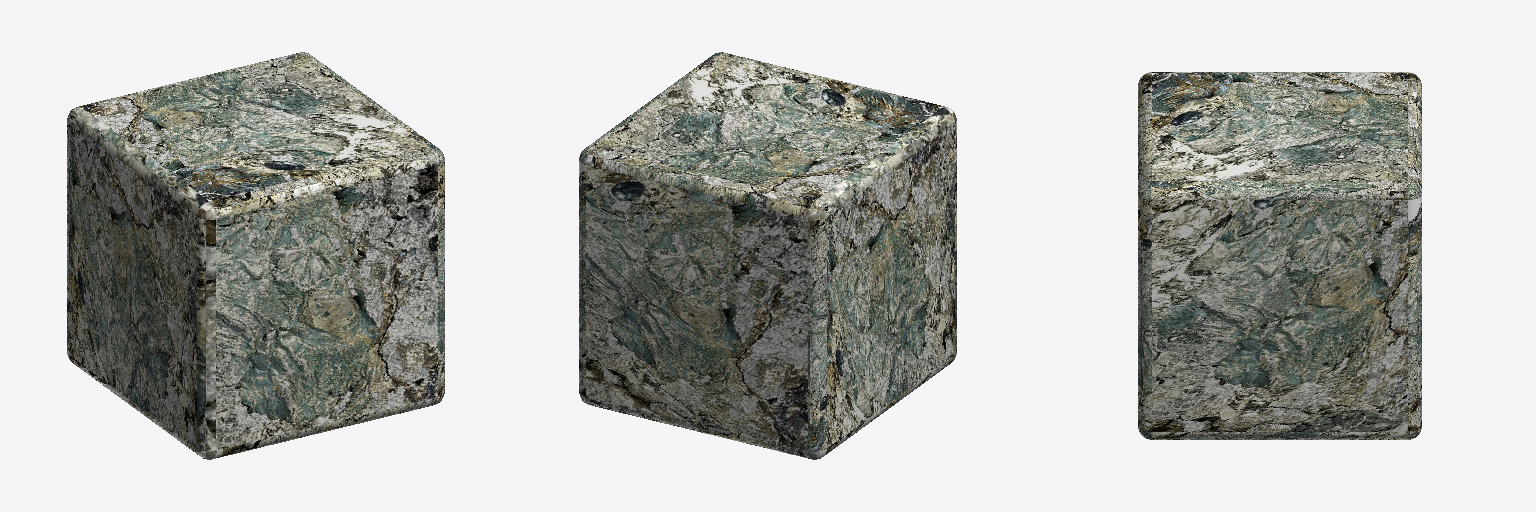
The picture shows the model from 3 angles: view 1: azimuth 30°, elevation 25°; view 2: azimuth 150°, elevation 25°; view 3: azimuth 270°, elevation 25°; orthographic projection.
Parts seen in each view (by area): view 1: Cube; view 2: Cube; view 3: Cube.
Boxes of the visible parts, box(x1,y1,x2,y2) form: Cube: box(67, 52, 444, 459); Cube: box(579, 52, 956, 459); Cube: box(1138, 72, 1421, 439).
Bounding box in the file's own units: 2 × 2 × 2.
Materials: 1 (1 with a texture image).